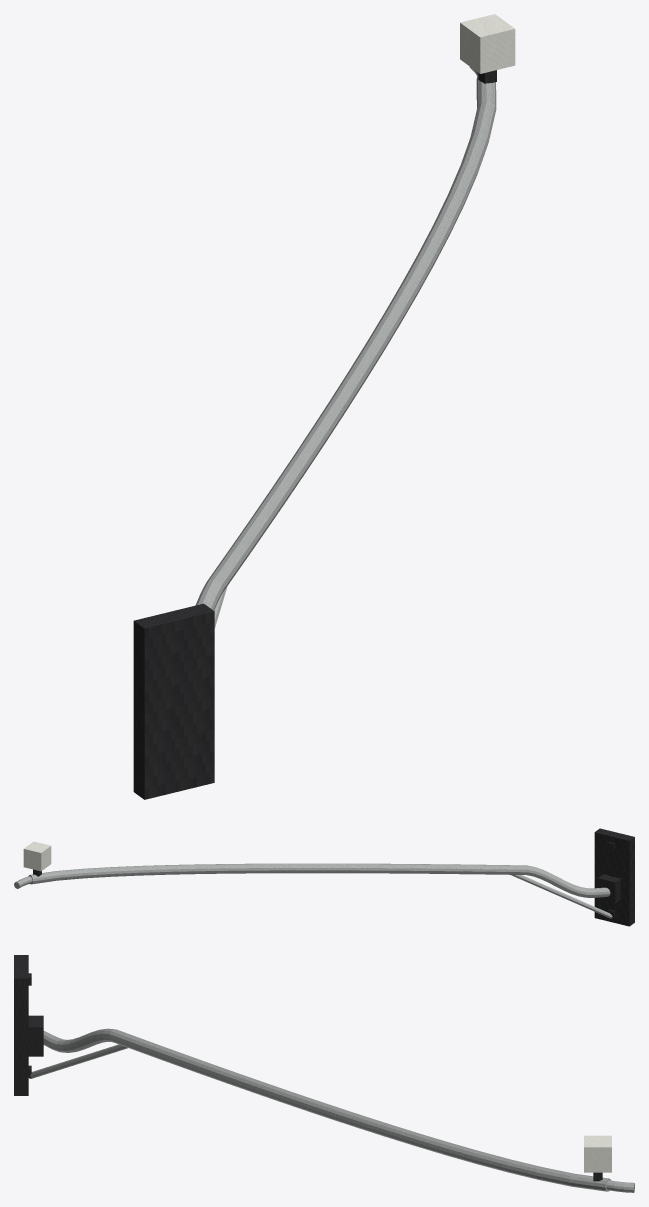
Rendered from arm_5_right.obj.
3 views of the same model, one above another, from view 1: azimuth 30°, elevation 25°; view 2: azimuth 150°, elevation 25°; view 3: azimuth 270°, elevation 25° (orthographic). The views are drawn at different scales.
Parts seen in each view (by area): view 1: pole_light_mount_5_right; view 2: pole_light_mount_5_right; view 3: pole_light_mount_5_right.
Part boxes in pixels (<box>): pole_light_mount_5_right: <box>133,14,515,799</box>; pole_light_mount_5_right: <box>14,828,634,926</box>; pole_light_mount_5_right: <box>14,955,634,1192</box>.
Size of the model in its own units: 4.22 by 1.4 by 4.19.
